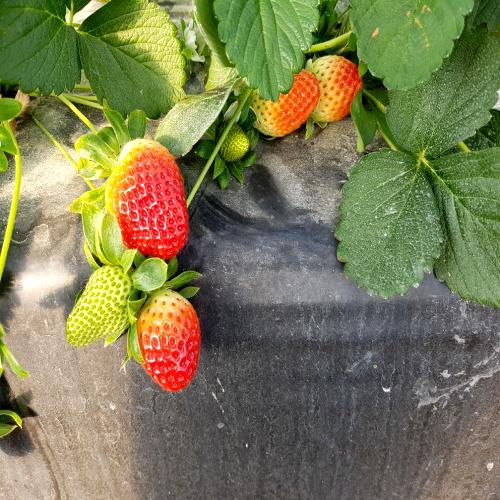partially-ripe: (136, 282, 205, 400)
ripe: (110, 114, 197, 281)
